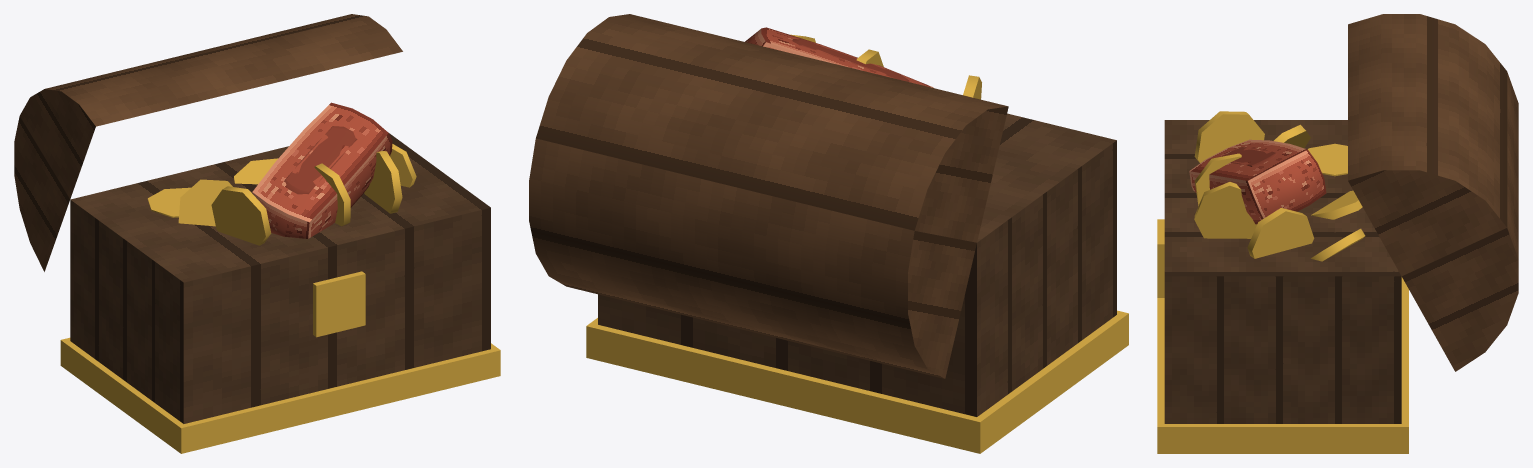
File: monopolio.glb
3 renders of one model, left to right at view 1: azimuth 30°, elevation 25°; view 2: azimuth 150°, elevation 25°; view 3: azimuth 270°, elevation 25°, orthographic. The views are drawn at different scales.
Parts seen in each view (by area): view 1: monopolio; view 2: monopolio; view 3: monopolio.
Boxes of the visible parts, x1,y1,x2,y2 form: monopolio: (14,14,500,453); monopolio: (529,14,1128,453); monopolio: (1157,14,1518,453).
Bounding box in the file's own units: 0.52 × 0.418 × 0.488.
5 materials, 3 textured.
